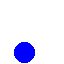circle: (14, 42, 34, 62)
